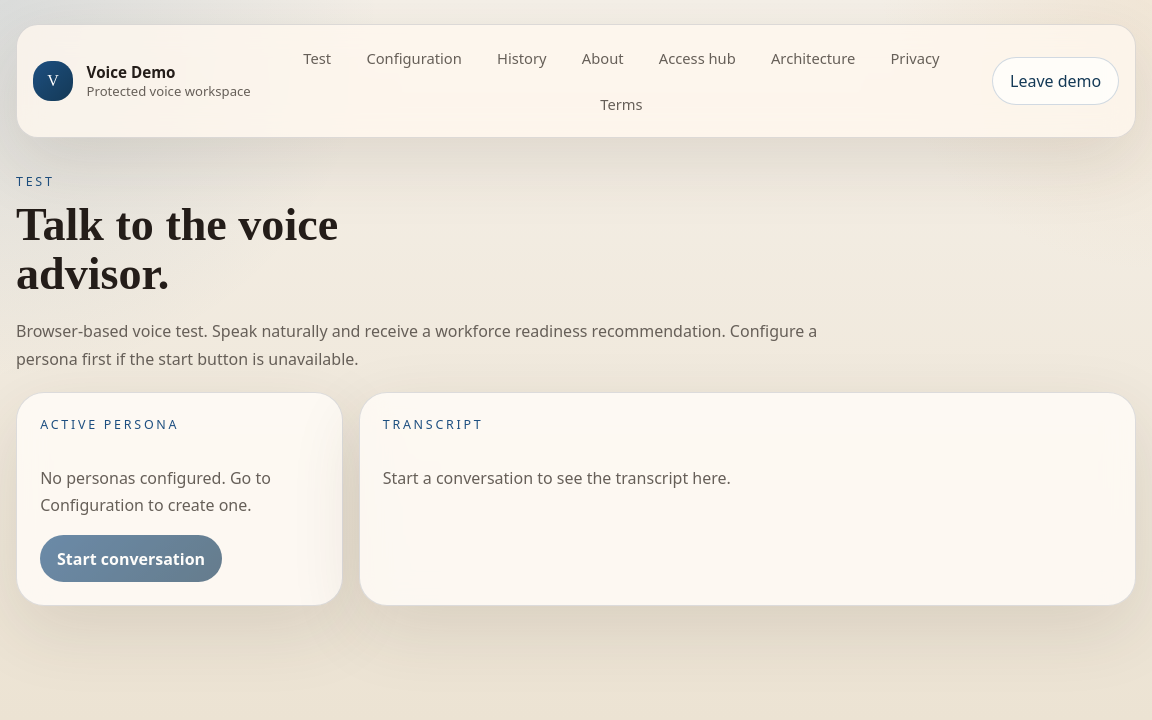
it: VoiceDemoWorkspace › History tab fetches and displays conversation rows
Click the button "History".
click(522, 58)  # box [483,39,560,77]
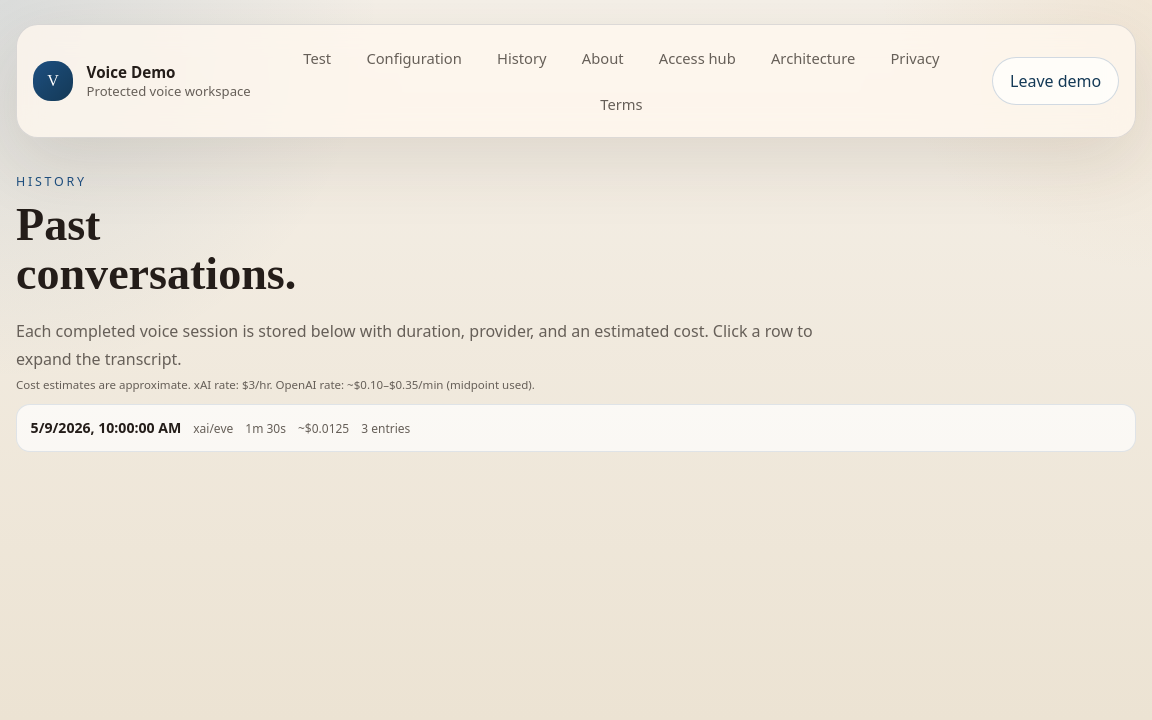
Check: the text "xai/eve" is shown, box [193,420,233,437]
Check: the text "1m 30s" is shown, box [245,420,286,437]
Check: the text "~$0.0125" is shown, box [298,420,349,437]
